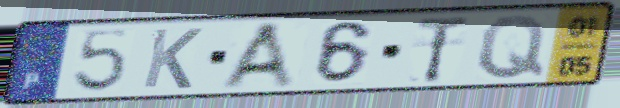5: (68, 27, 135, 94)
6: (309, 20, 376, 86)
A: (215, 19, 300, 90)
K: (138, 26, 206, 91)
Q: (474, 13, 549, 81)
T: (413, 14, 473, 86)
